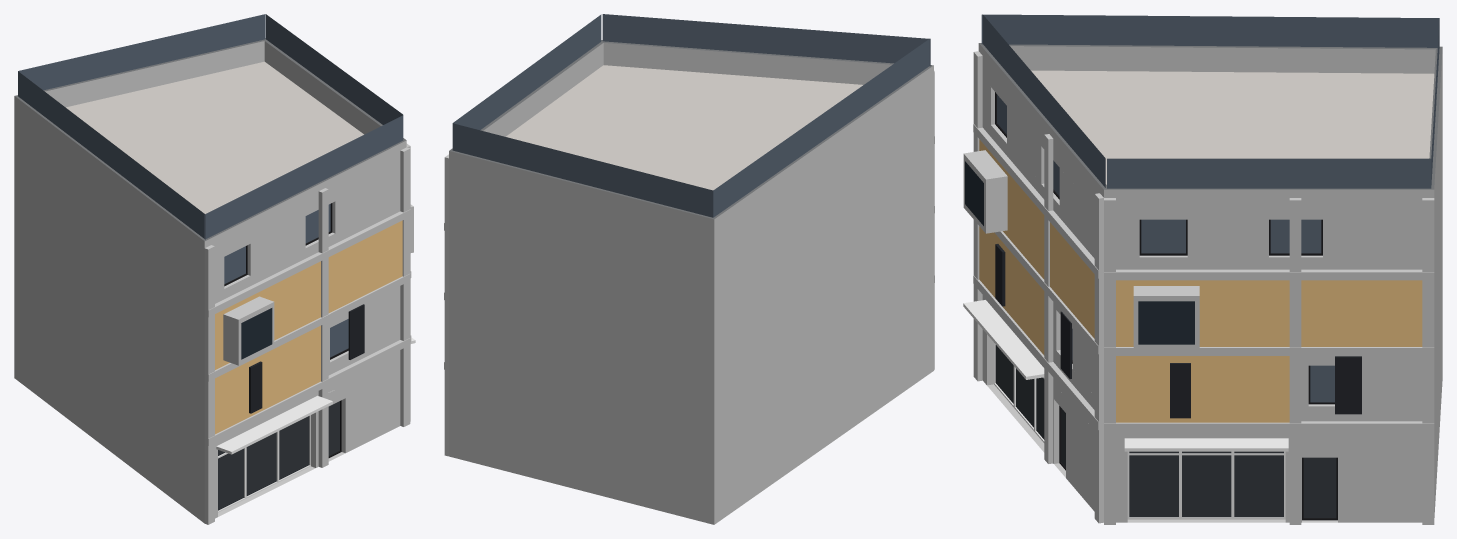
Rendered from lamb529.glb.
3 views of the same model, side by side, from view 1: azimuth 30°, elevation 25°; view 2: azimuth 150°, elevation 25°; view 3: azimuth 270°, elevation 25° (orthographic). The views are drawn at different scales.
Parts seen in each view (by area): view 1: lamb529; view 2: lamb529; view 3: lamb529.
Part boxes in pixels (x1=…): lamb529: x1=14, y1=14, x2=415, y2=524; lamb529: x1=444, y1=14, x2=934, y2=524; lamb529: x1=963, y1=14, x2=1442, y2=524.
Size of the model in its own units: 12.54 by 13.4 by 16.04.
